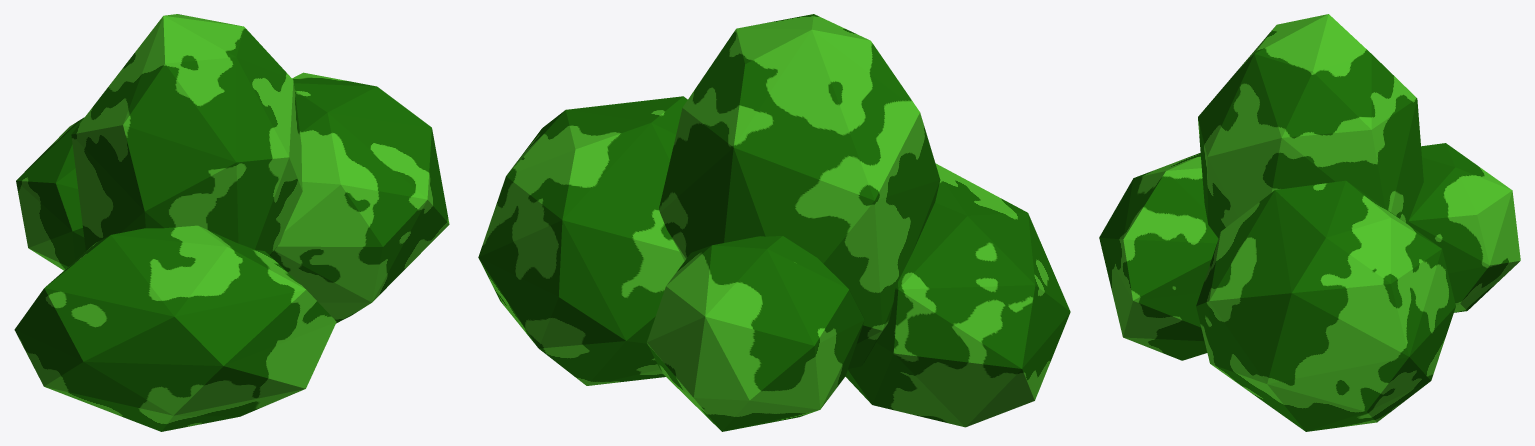
The model's file is bush2.fbx.
The picture shows the model from 3 angles, left to right: view 1: azimuth 30°, elevation 25°; view 2: azimuth 150°, elevation 25°; view 3: azimuth 270°, elevation 25°; orthographic projection. The views are drawn at different scales.
Parts seen in each view (by area): view 1: Icosphere.008; view 2: Icosphere.008; view 3: Icosphere.008.
Part boxes in pixels (left/top/right/bottom): Icosphere.008: left=14, top=14, right=449, bottom=431; Icosphere.008: left=478, top=14, right=1070, bottom=431; Icosphere.008: left=1099, top=14, right=1520, bottom=431.
Bounding box in the file's own units: 472 × 378 × 414.
1 material, 1 textured.
